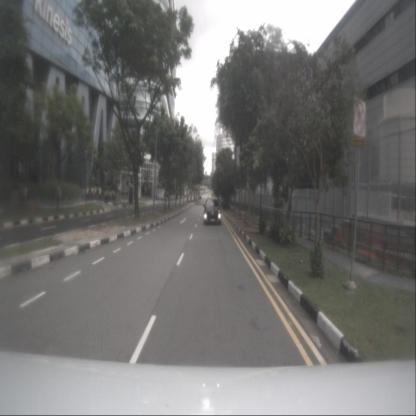human-pedestrian-adult: (94, 186, 97, 202), (86, 186, 89, 202), (99, 187, 102, 201), (113, 189, 116, 202), (91, 186, 93, 201), (109, 188, 111, 202), (106, 188, 108, 201), (104, 189, 106, 201)
vehicle-car: (203, 197, 221, 225)
